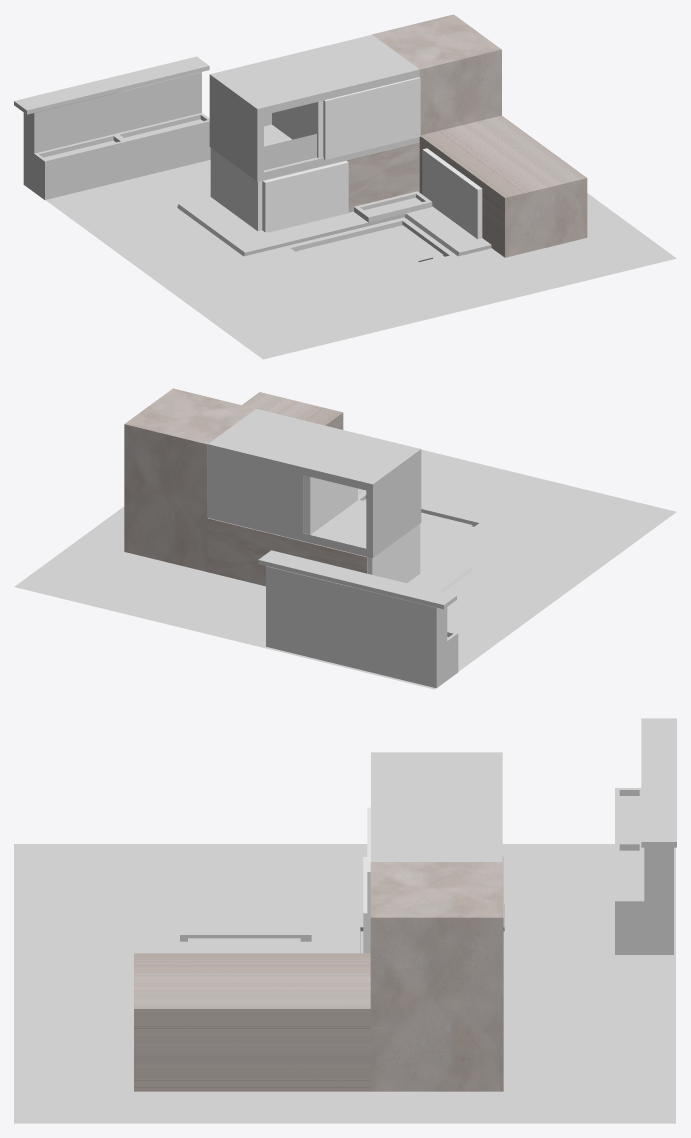
File: firstTEXTURE.gltf
The picture shows the model from 3 angles, top to bottom: view 1: azimuth 30°, elevation 25°; view 2: azimuth 150°, elevation 25°; view 3: azimuth 270°, elevation 25°; orthographic projection. The views are drawn at different scales.
Visible parts, largest first — view 1: Plane.003, Cube.002, Cube.003, Plane.002, Cube.001, CTRL_Hole.002, CTRL_Hole, Plane.004, Cube, CTRL_Hole.007, CTRL_Hole.001, CTRL_Hole.003 (+1 smaller); view 2: Plane.003, Cube.001, Cube.003, Cube.002, Plane.002, Cube, CTRL_Hole.003, CTRL_Hole.001, Plane.004; view 3: Plane.003, Cube.002, Cube.001, Cube.003, Plane.002, Plane.004.
Boxes of the visible parts, box(x1,y1,x2,y2) form: Plane.003: box(45, 160, 676, 359); Cube.002: box(372, 14, 587, 257); Cube.003: box(14, 56, 210, 199); Plane.002: box(177, 191, 587, 305); Cube.001: box(209, 35, 419, 181); CTRL_Hole.002: box(323, 77, 420, 159); CTRL_Hole: box(262, 160, 348, 232); Plane.004: box(298, 225, 443, 280); Cube: box(262, 142, 419, 212); CTRL_Hole.007: box(422, 148, 481, 239); CTRL_Hole.001: box(210, 148, 262, 231); CTRL_Hole.003: box(272, 100, 323, 158); Plane.003: box(14, 449, 676, 689); Cube.001: box(208, 409, 421, 557); Cube.003: box(258, 550, 458, 688); Cube.002: box(124, 388, 343, 571); Plane.002: box(123, 488, 539, 592); Cube: box(207, 518, 367, 586); CTRL_Hole.003: box(304, 475, 357, 534); CTRL_Hole.001: box(367, 524, 420, 583); Plane.004: box(364, 499, 472, 555); Plane.003: box(14, 844, 675, 1123); Cube.002: box(134, 862, 503, 1091); Cube.001: box(371, 752, 502, 861); Cube.003: box(615, 718, 676, 954); Plane.002: box(134, 901, 504, 1092); Plane.004: box(188, 938, 300, 953).
Size of the model in its own units: 22.92 by 7.51 by 22.42.
Materials: 7 (2 with a texture image).
